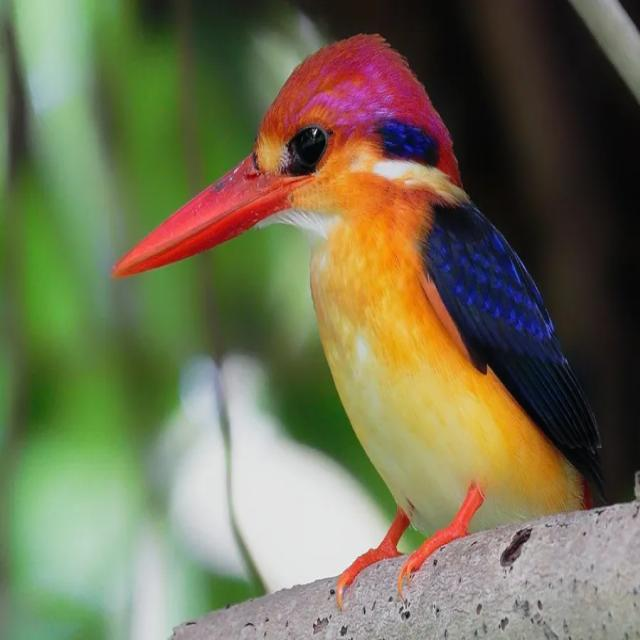kingfisher: (112, 26, 624, 604)
